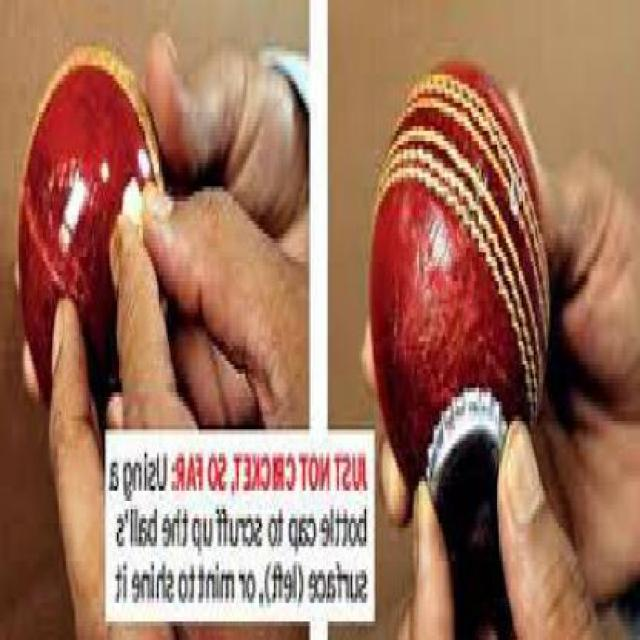ball: (332, 28, 578, 481)
